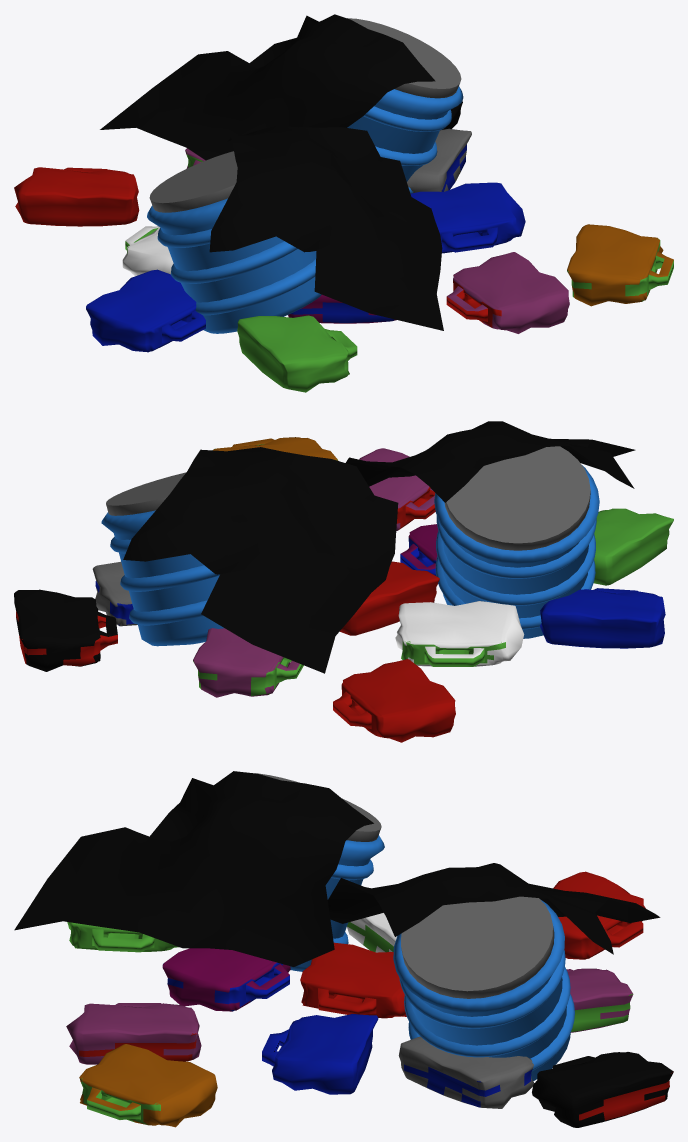
File: genskrald1.fbx
3 renders of one model, top to bottom at view 1: azimuth 30°, elevation 25°; view 2: azimuth 150°, elevation 25°; view 3: azimuth 270°, elevation 25°, orthographic. The views are drawn at different scales.
Visible parts, largest first — view 1: Cube.007; view 2: Cube.007; view 3: Cube.007.
Part boxes in pixels (left/top/right/bottom): Cube.007: left=14, top=14, right=673, bottom=392; Cube.007: left=14, top=421, right=673, bottom=742; Cube.007: left=14, top=771, right=673, bottom=1127.
Bounding box in the file's own units: 188 × 60.4 × 198.
